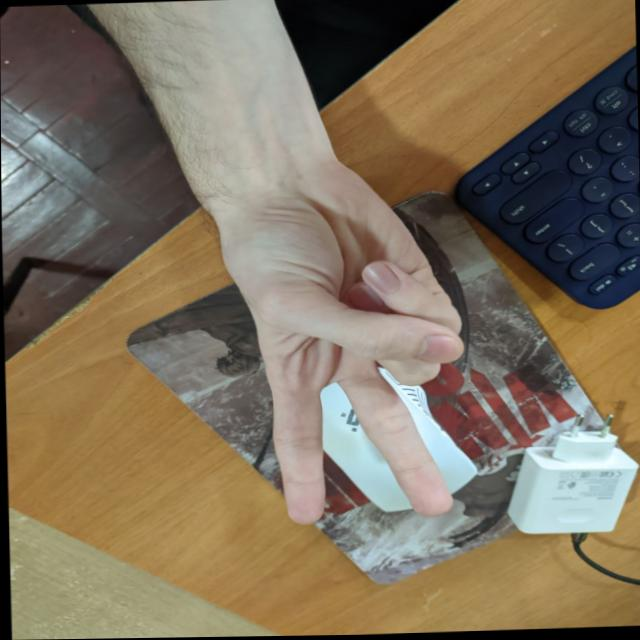k: (209, 195, 539, 540)
